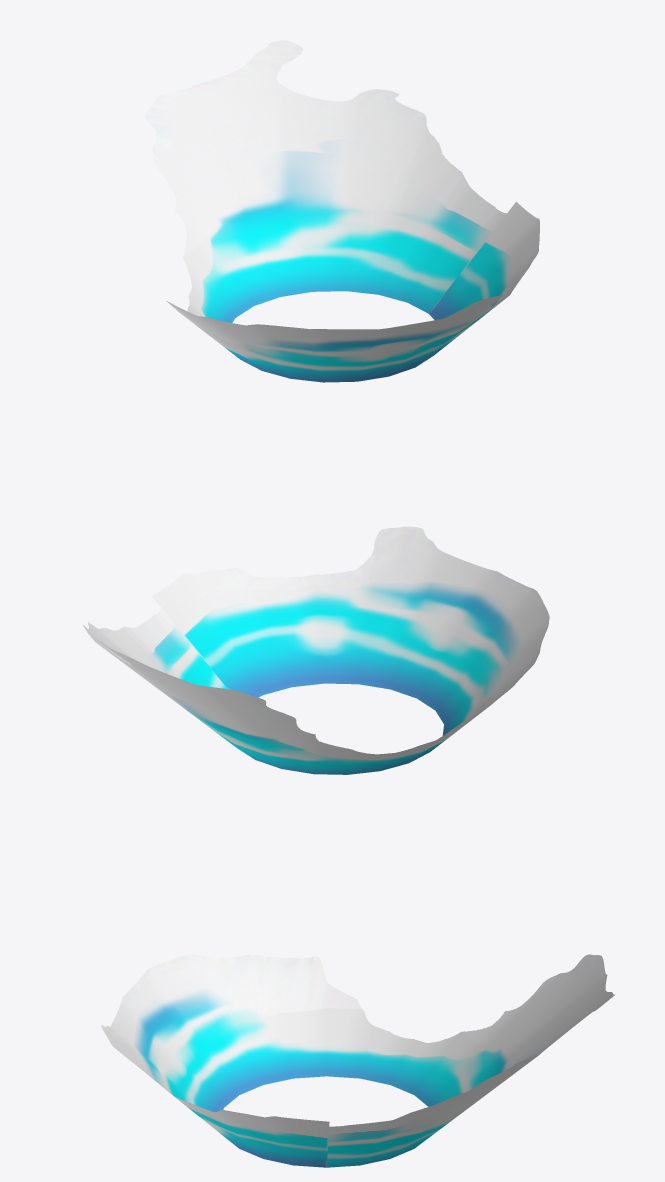
File: SM_VFXSplash.fbx
3 views of the same model, one above another, from view 1: azimuth 30°, elevation 25°; view 2: azimuth 150°, elevation 25°; view 3: azimuth 270°, elevation 25° (orthographic).
Visible parts, largest first — view 1: VFX_Splash; view 2: VFX_Splash; view 3: VFX_Splash.
Part boxes in pixels (<box>): VFX_Splash: <box>146,40,539,382</box>; VFX_Splash: <box>83,526,549,774</box>; VFX_Splash: <box>101,954,615,1167</box>.
Bounding box in the file's own units: 236 × 75.52 × 236.
1 material, 1 textured.
